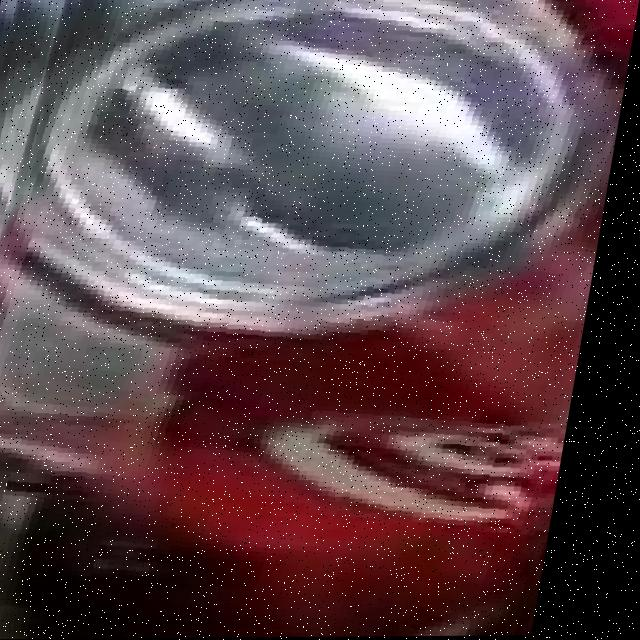litter: (0, 0, 613, 635)
